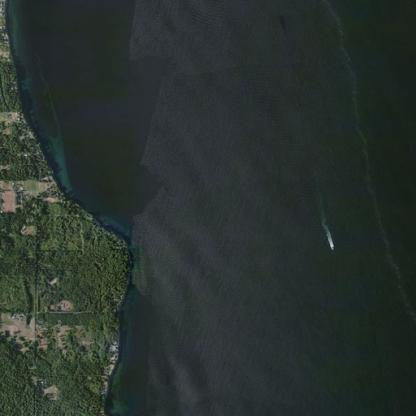ship: (322, 232, 340, 253)
